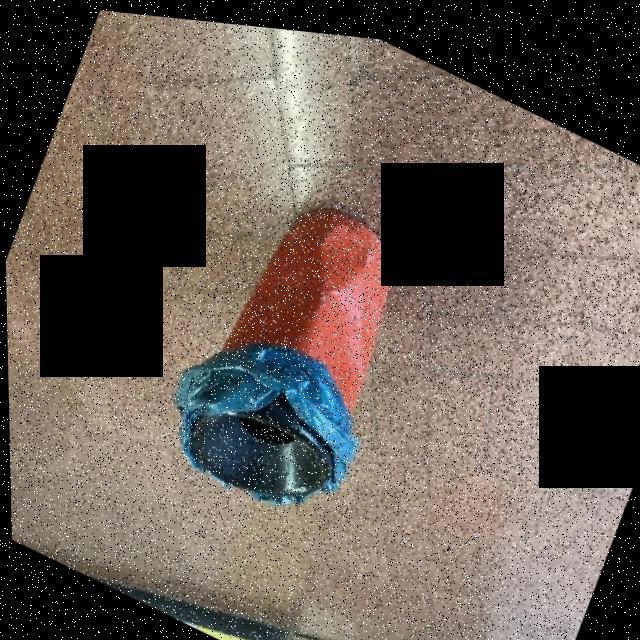bin: (92, 94, 488, 596)
